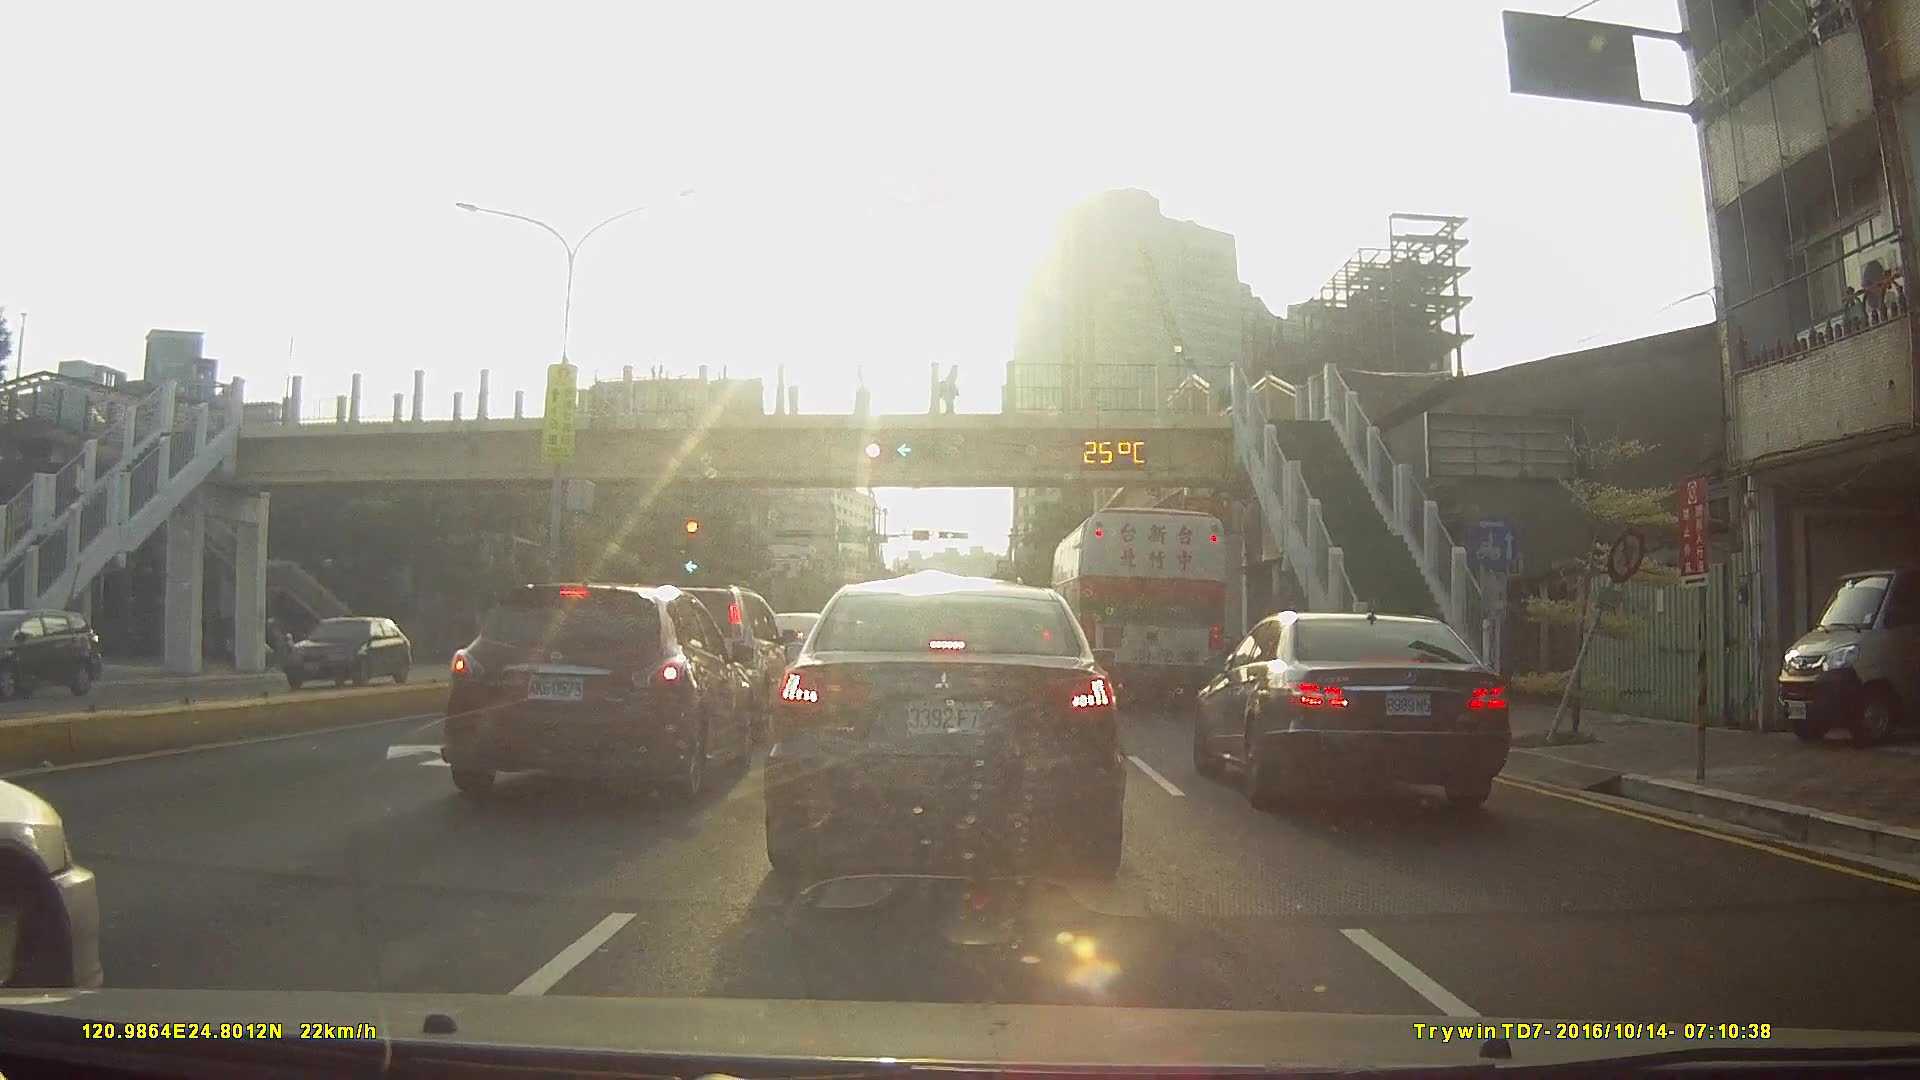pedestrian: (940, 365, 962, 413)
vehicle: (758, 575, 1130, 878), (436, 579, 757, 805), (1187, 606, 1506, 817), (1050, 505, 1229, 702), (270, 612, 404, 688), (0, 605, 100, 699)
